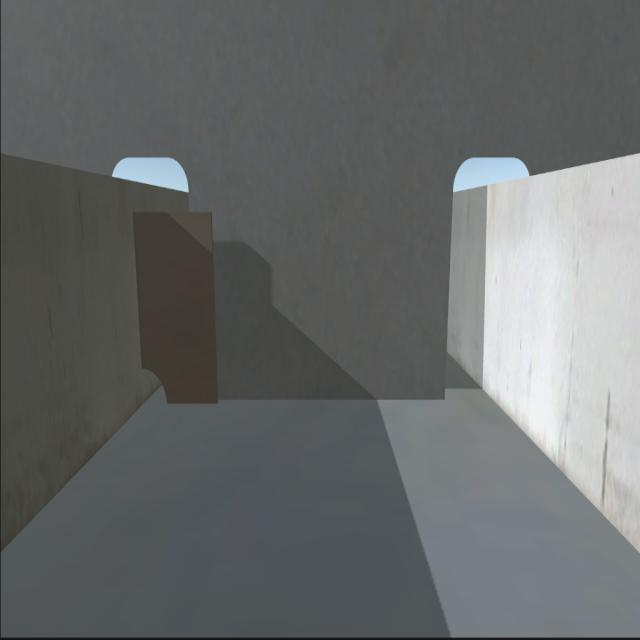fillet_hole: (141, 364, 170, 406)
fillet_yong_jeop_jang: (174, 397, 445, 416)
longi_yong_jeop_jang: (128, 214, 148, 362)
plate_CP01: (135, 210, 215, 411)
